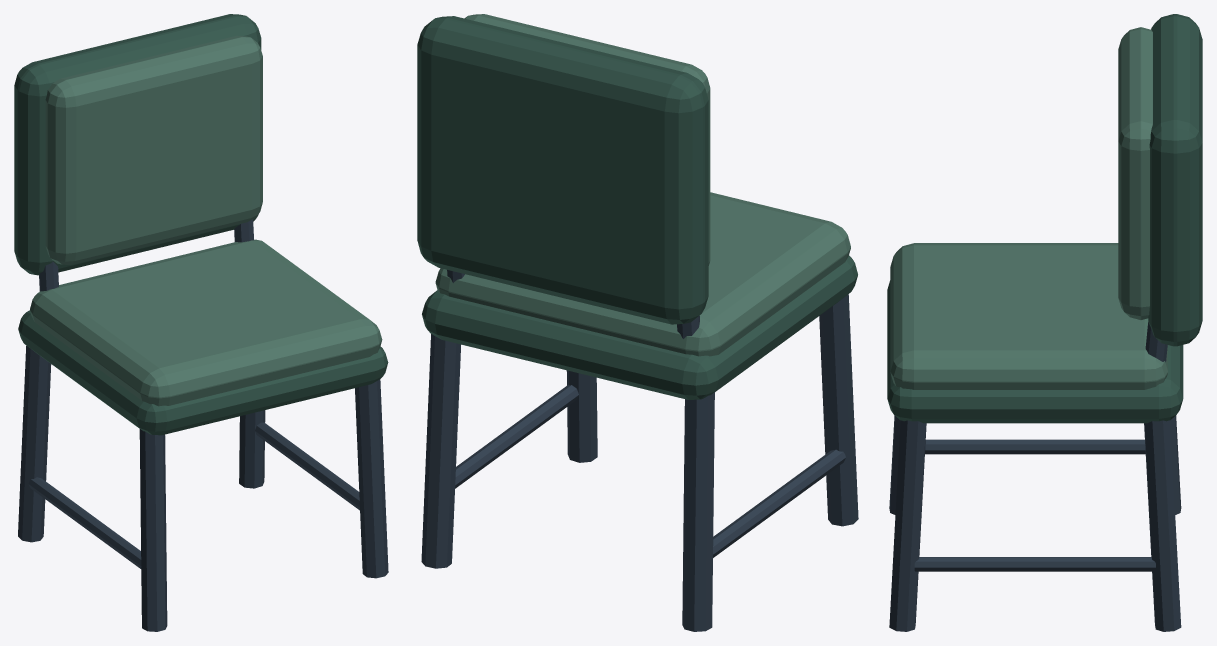
File: chair_auditorium.glb
3 views of the same model, side by side, from view 1: azimuth 30°, elevation 25°; view 2: azimuth 150°, elevation 25°; view 3: azimuth 270°, elevation 25° (orthographic). The views are drawn at different scales.
Visible parts, largest first — view 1: chair_auditorium__green_velvet, chair_auditorium__green_shadow, chair_auditorium__metal; view 2: chair_auditorium__green_shadow, chair_auditorium__metal, chair_auditorium__green_velvet; view 3: chair_auditorium__green_velvet, chair_auditorium__green_shadow, chair_auditorium__metal.
Boxes of the visible parts, x1,y1,x2,y2 form: chair_auditorium__green_velvet: [30, 35, 382, 406]; chair_auditorium__green_shadow: [14, 14, 388, 435]; chair_auditorium__metal: [18, 219, 388, 631]; chair_auditorium__green_shadow: [417, 16, 857, 399]; chair_auditorium__metal: [421, 270, 858, 631]; chair_auditorium__green_velvet: [435, 14, 850, 356]; chair_auditorium__green_velvet: [890, 27, 1167, 389]; chair_auditorium__green_shadow: [887, 14, 1202, 423]; chair_auditorium__metal: [889, 322, 1181, 631].
Size of the model in its own units: 0.51 by 0.9162 by 0.522.
